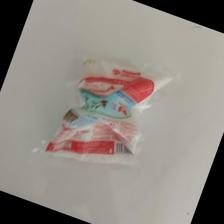Ajinomoto: (32, 51, 190, 175)
